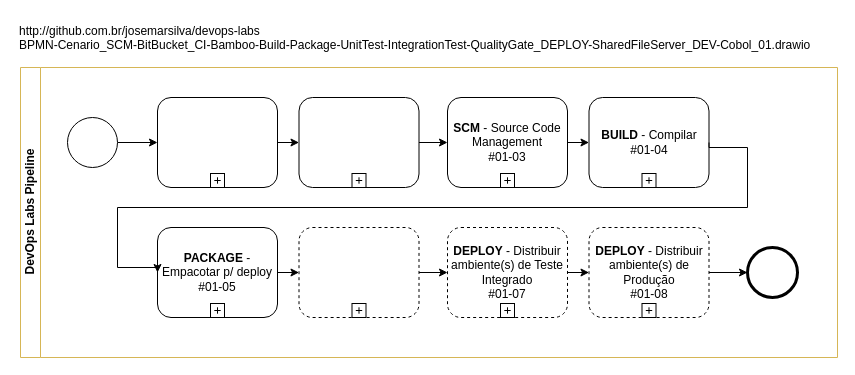
Image size: 855x375. Some labels were removed from this diagram. The shapes that lost their labels are listed below. From the top down, each one's centre as x and y in pixels, then its label:
At (217,142): "PLAN - Design e Planejamento #01-01".
At (358,142): "DEV - Development #01-02".
At (358,272): "DEPLOY - Distribuir ambiente(s) de Teste Unitário #01-06".
